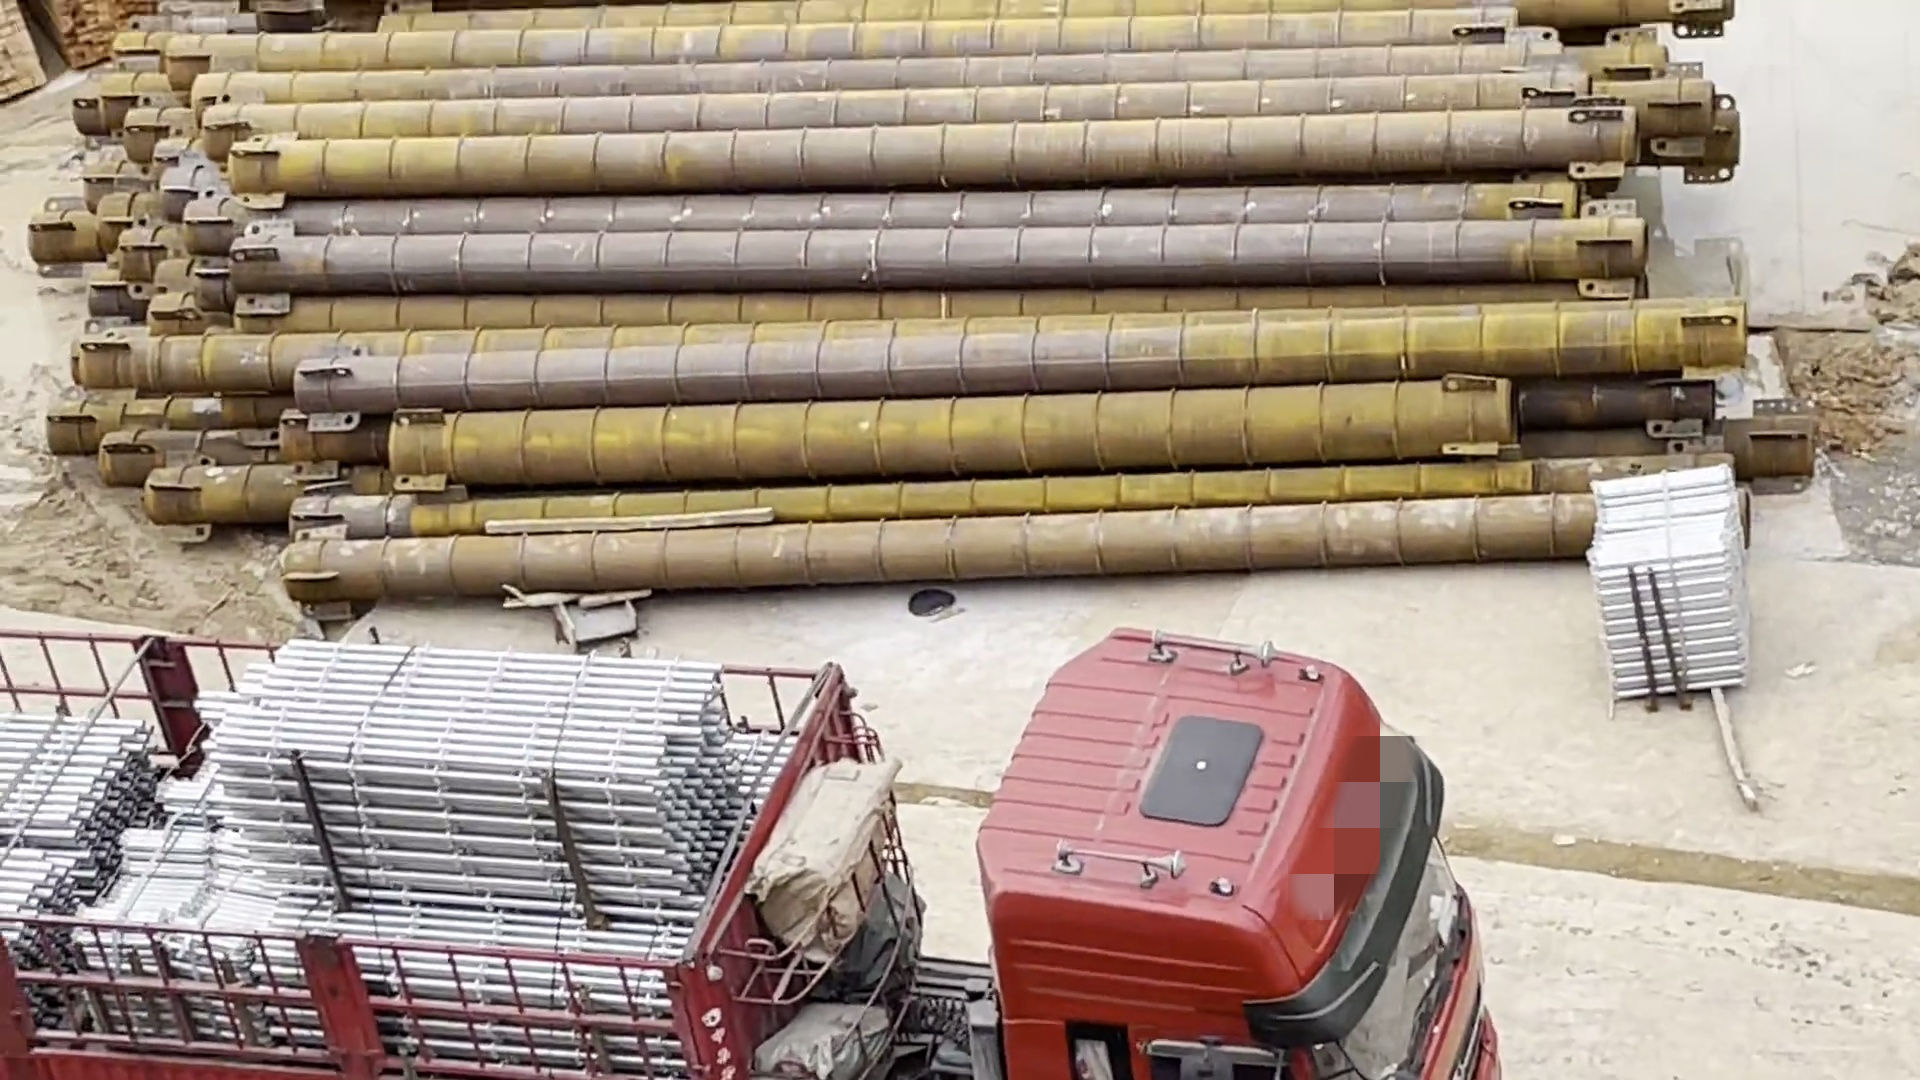scaffold: (3, 620, 785, 1043), (1590, 458, 1756, 713)
wood: (3, 1, 154, 109)
